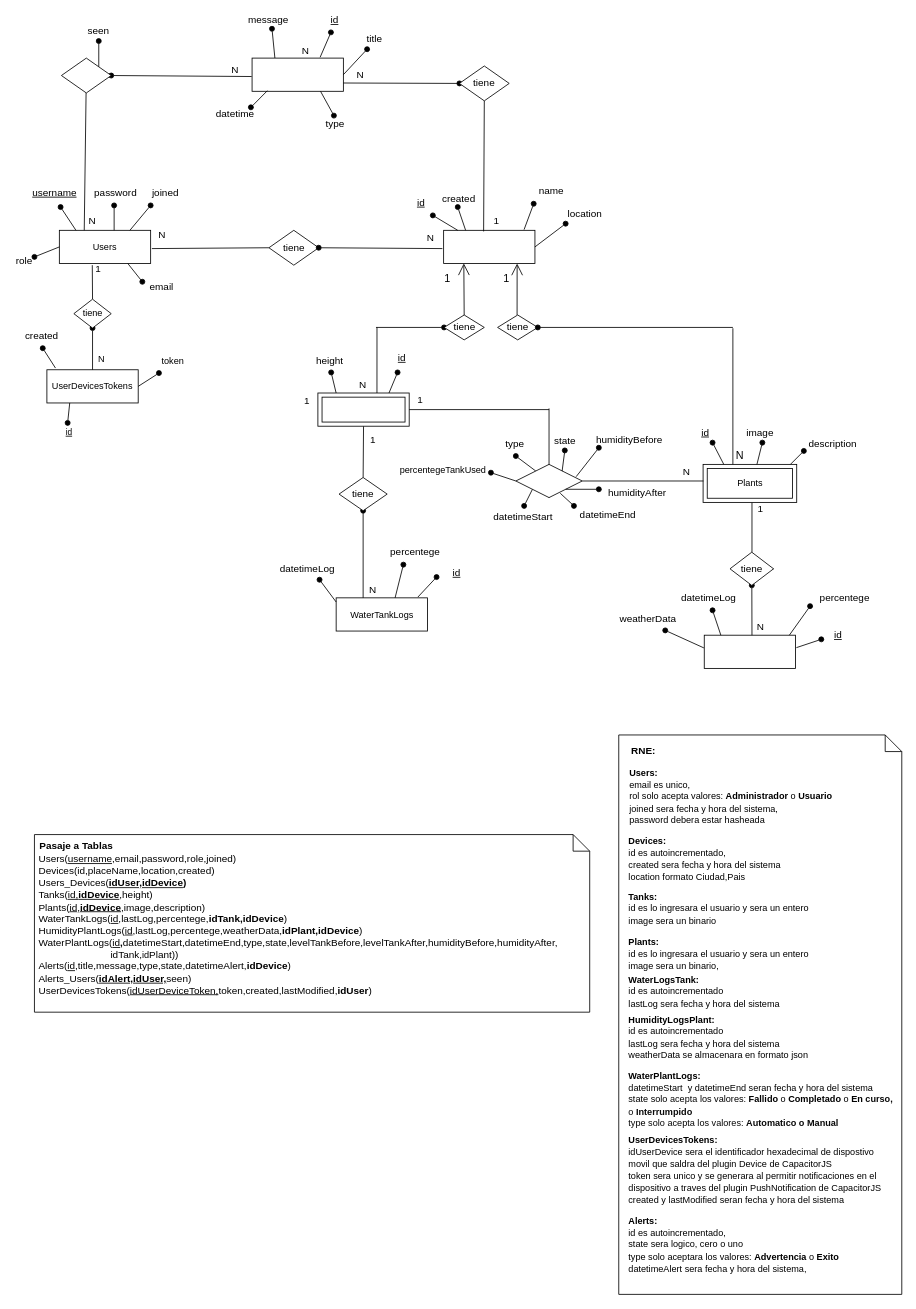
Image size: 916x1309. Some labels were removed from this diagram. The centre of each missing label's shape, as x and y in pixels:
Alerts: the point at 297,74
Device: the point at 489,246
HumidityLogsPlant: the point at 749,651
recibe: the point at 86,75
Tanks: the point at 363,409
Water Plant: the point at 548,481
